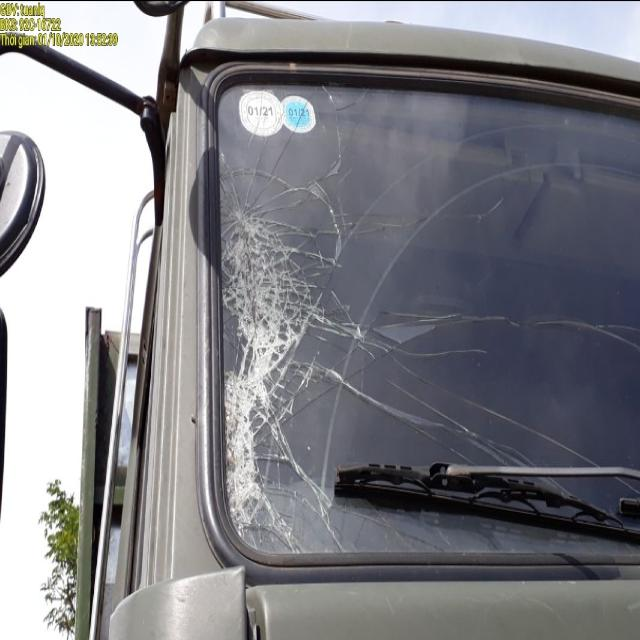Fissure: (390, 362, 604, 470), (381, 305, 640, 355), (222, 201, 288, 385), (256, 416, 348, 542), (217, 75, 274, 212), (318, 79, 352, 256), (228, 374, 252, 516)
